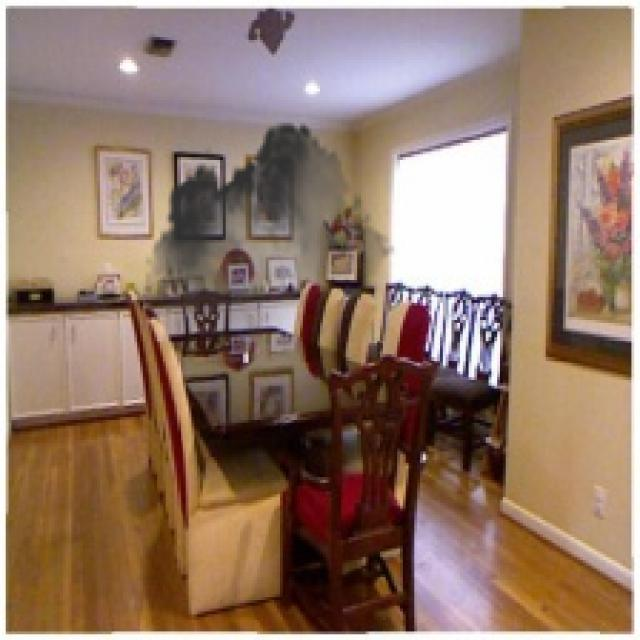smoke: (146, 112, 397, 374)
